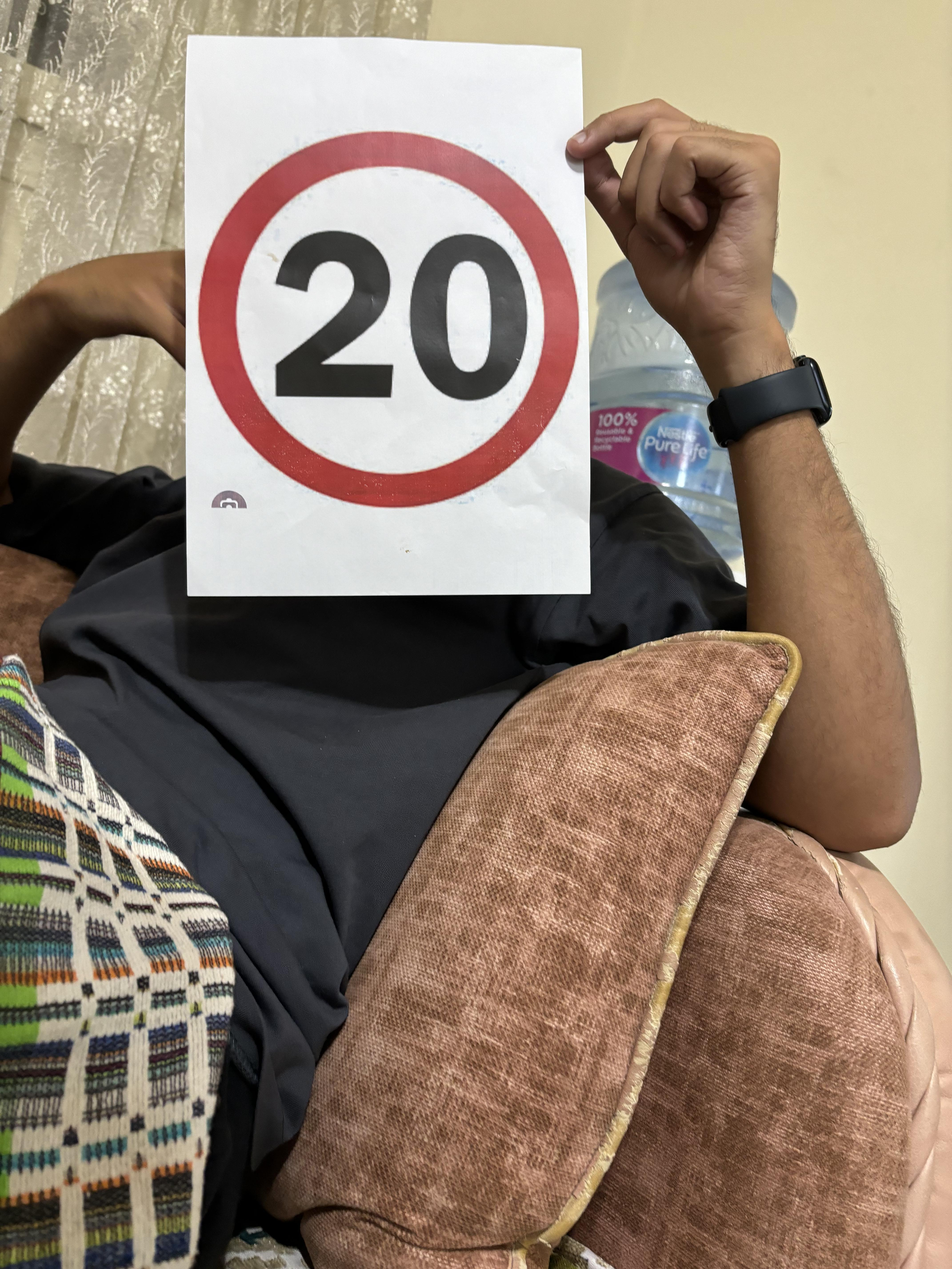20-Speed: (203, 118, 589, 509)
